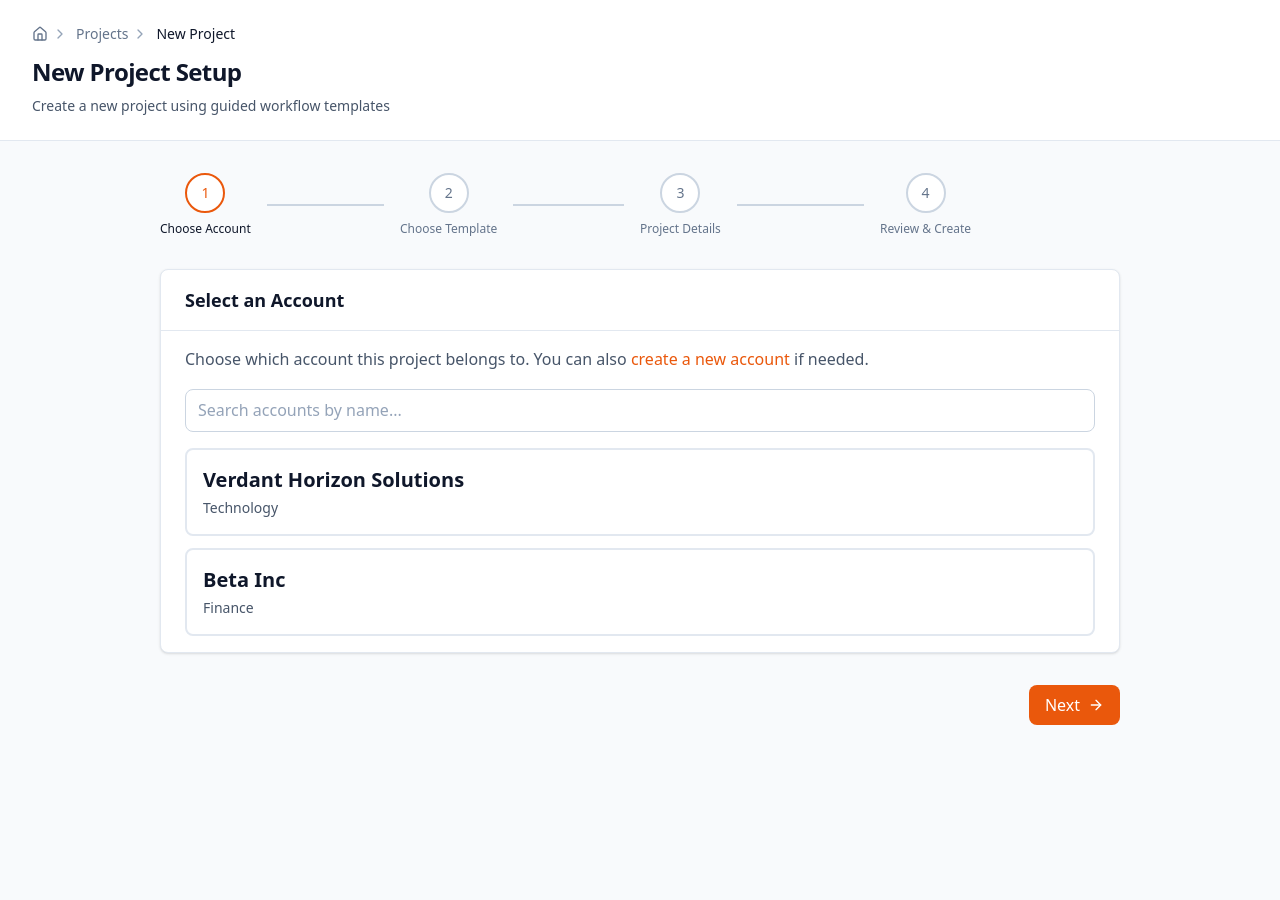
Test case: Project Setup Flow › shows validation error when trying to proceed without selecting account
Expected: the heading "Select an Account" is shown, [185, 288, 344, 312]
# Try to proceed without selecting
Click the button "Next" at (1074, 705), box [1029, 685, 1120, 725]
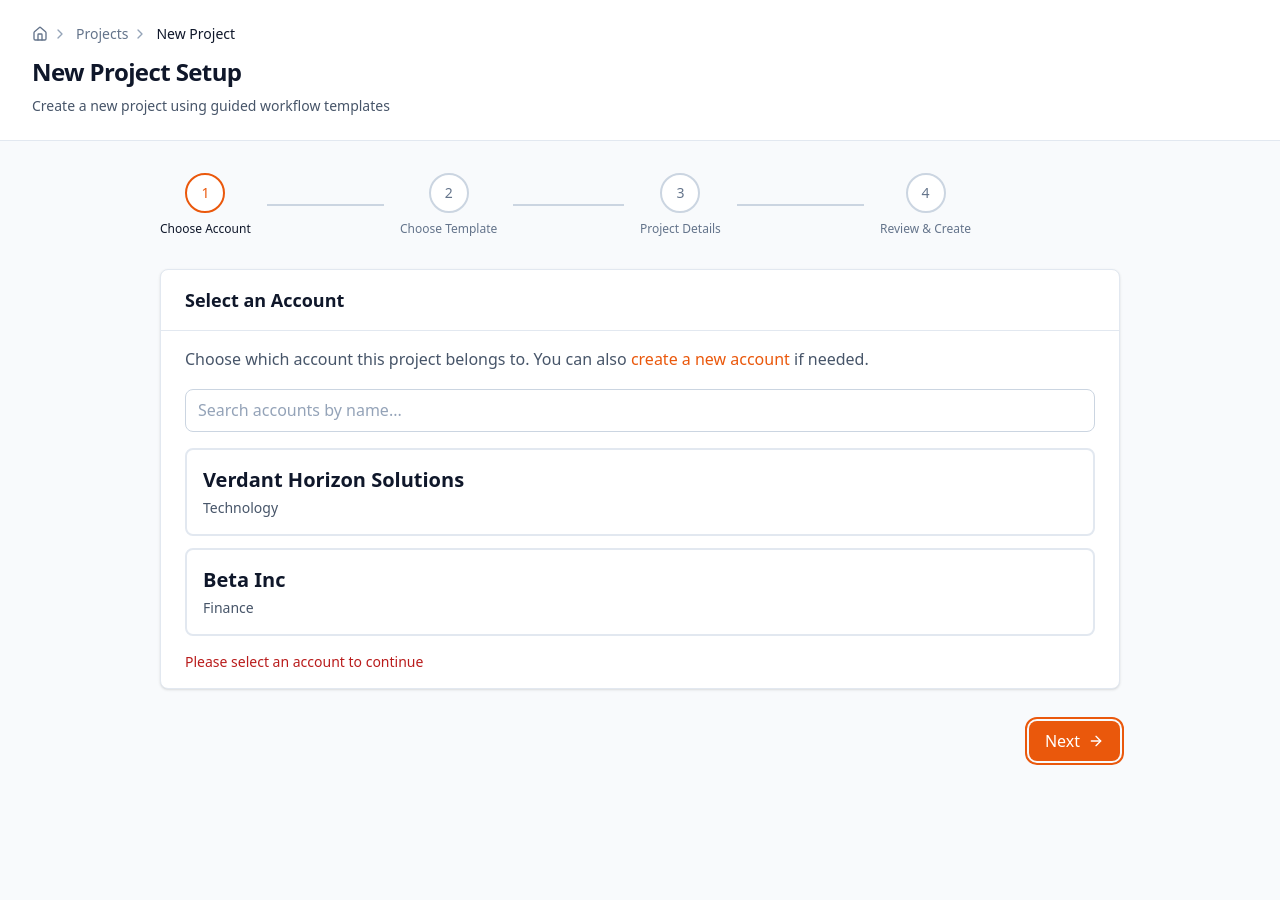
Expected: the text "Please select an account to continue" is shown, [185, 652, 423, 671]
